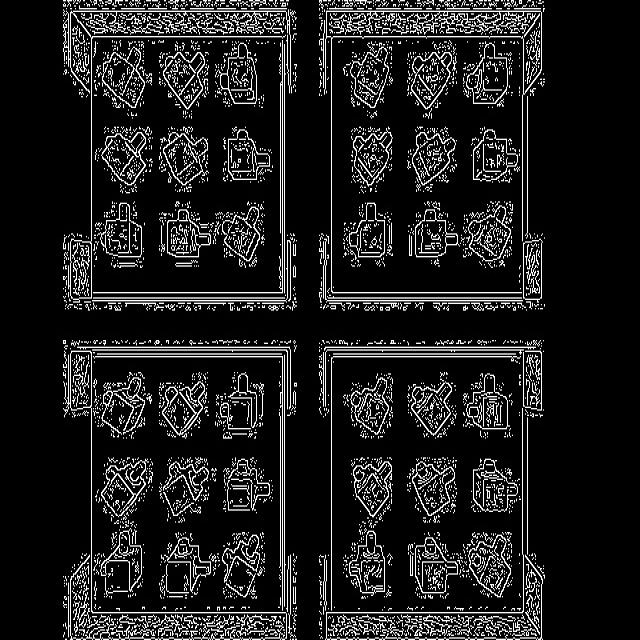Regulator: (161, 533, 219, 598), (159, 457, 216, 523), (342, 42, 392, 117), (95, 458, 152, 523), (95, 372, 151, 438), (160, 43, 209, 118), (408, 42, 456, 118), (101, 42, 152, 108), (160, 202, 211, 267), (215, 372, 264, 438), (463, 202, 512, 268), (159, 127, 208, 192), (159, 373, 208, 438), (99, 524, 142, 597), (408, 127, 456, 192), (344, 203, 392, 267), (344, 373, 391, 438), (464, 373, 511, 438), (408, 458, 455, 523), (464, 532, 511, 597), (344, 530, 391, 595), (96, 202, 142, 268), (409, 372, 455, 437), (464, 43, 511, 104), (221, 203, 264, 267), (216, 43, 260, 105), (411, 537, 458, 595), (410, 202, 458, 258), (224, 457, 272, 512), (352, 127, 392, 193), (224, 533, 264, 598), (100, 133, 148, 187), (472, 128, 520, 182), (472, 460, 520, 513), (351, 458, 392, 520), (230, 133, 270, 180)
